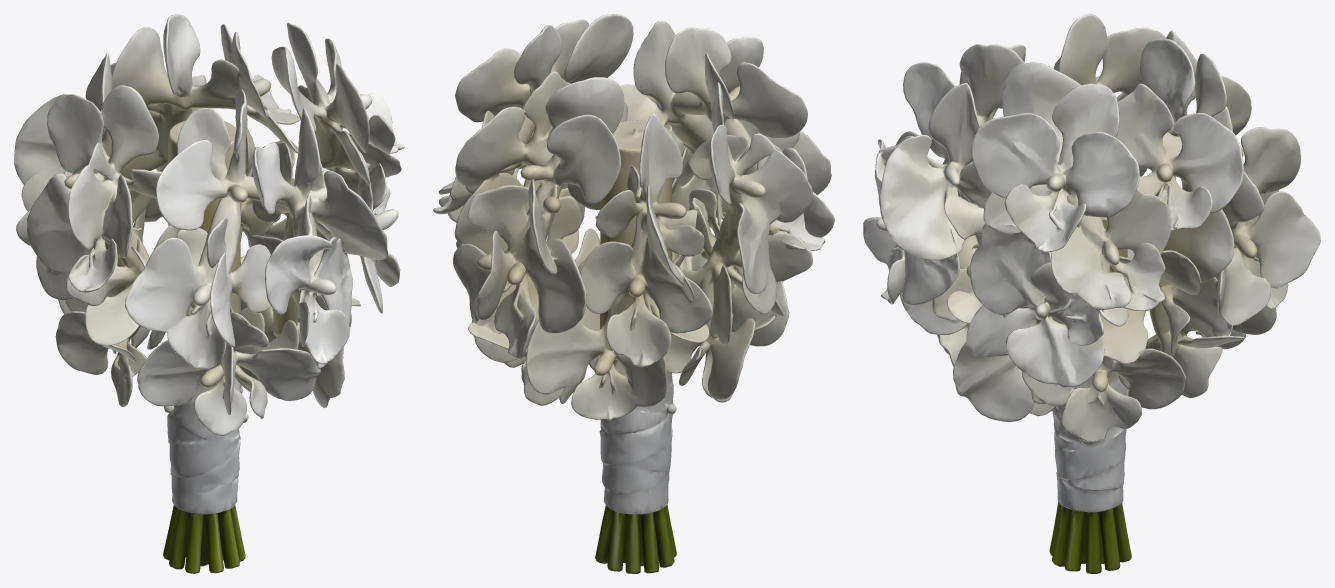
Rendered from round_v1.glb.
3 views of the same model, side by side, from view 1: azimuth 30°, elevation 25°; view 2: azimuth 150°, elevation 25°; view 3: azimuth 270°, elevation 25° (orthographic). The views are drawn at different scales.
Visible parts, largest first — view 1: tripo_node_cbd81752-0b62-4963-b7c7-9292a156a52f; view 2: tripo_node_cbd81752-0b62-4963-b7c7-9292a156a52f; view 3: tripo_node_cbd81752-0b62-4963-b7c7-9292a156a52f.
Part boxes in pixels (x1,y1,x2,y2): tripo_node_cbd81752-0b62-4963-b7c7-9292a156a52f: (14, 14, 404, 573); tripo_node_cbd81752-0b62-4963-b7c7-9292a156a52f: (433, 14, 834, 573); tripo_node_cbd81752-0b62-4963-b7c7-9292a156a52f: (863, 14, 1320, 573).
Size of the model in its own units: 0.71 by 1 by 0.7908.
Materials: 1 (1 with a texture image).
